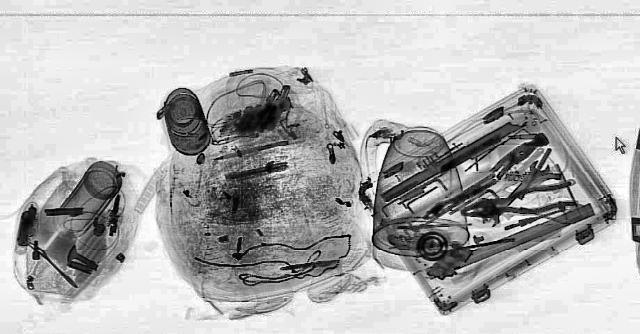Pliers: (451, 180, 584, 222)
Wrench: (474, 160, 554, 228)
